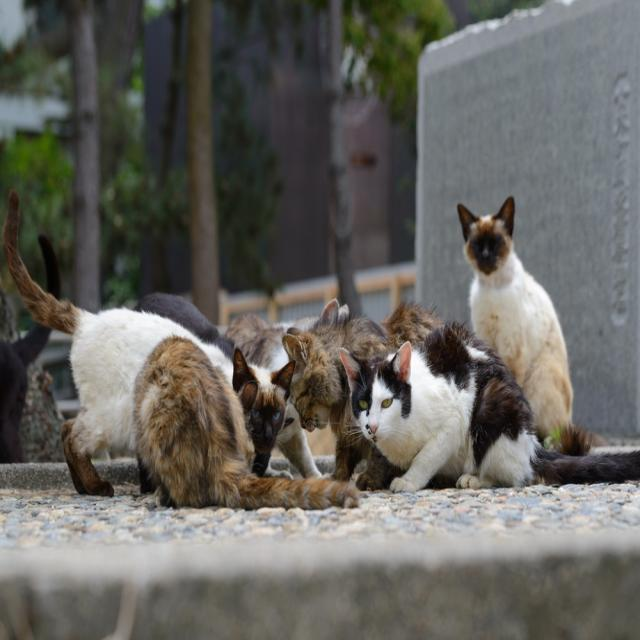cat: (2, 193, 290, 493), (341, 322, 640, 492), (135, 337, 360, 509), (282, 301, 442, 490), (458, 196, 572, 437), (135, 292, 234, 360), (225, 312, 294, 371), (275, 402, 321, 477)
